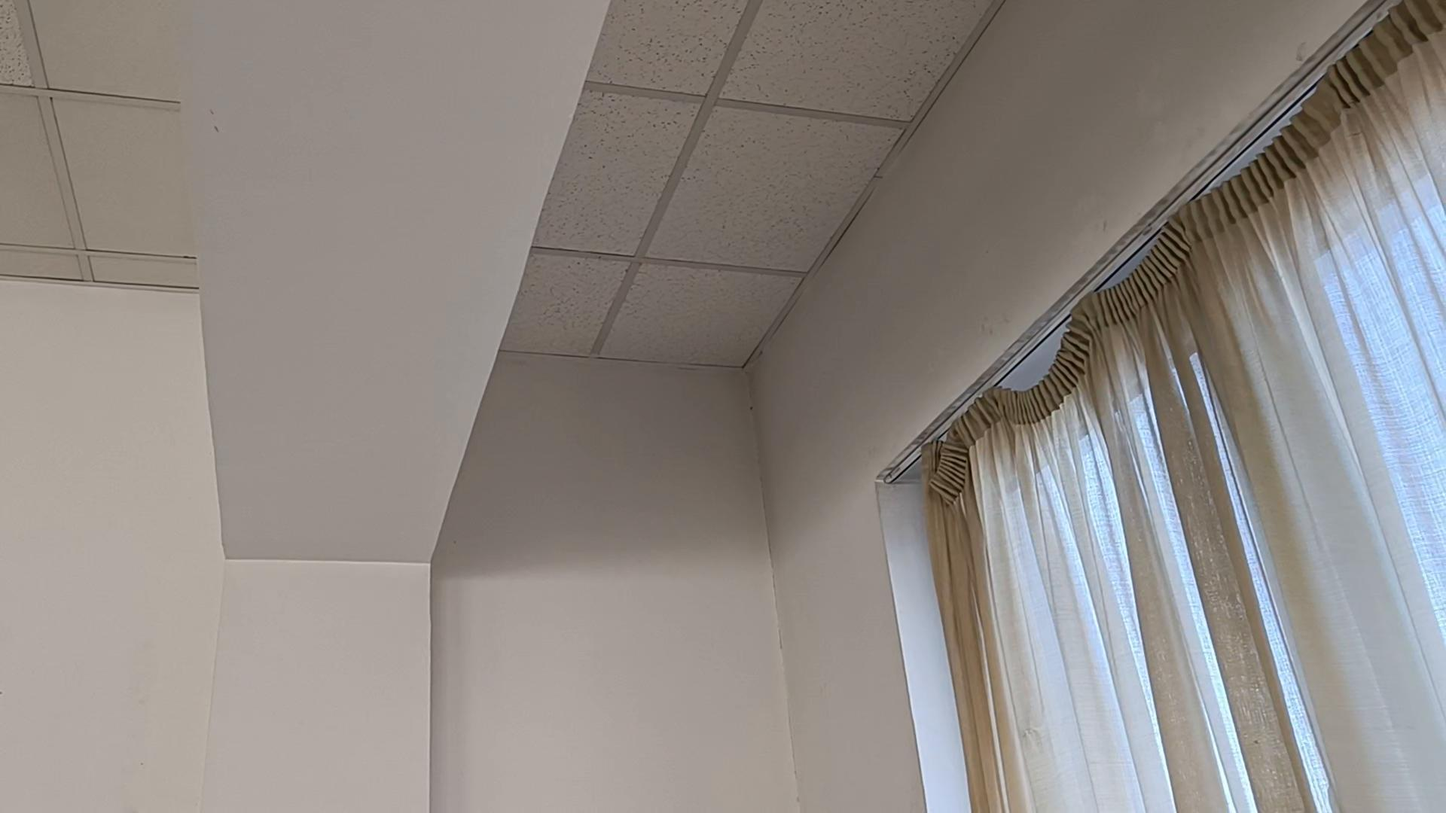ceiling: (178, 0, 599, 568), (502, 0, 999, 366), (502, 0, 998, 366), (0, 0, 197, 288)
wall: (0, 4, 1369, 812)
